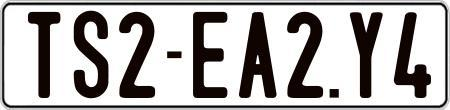2: (117, 11, 158, 101), (286, 12, 324, 104)
4: (393, 12, 432, 103)
A: (238, 10, 280, 102)
E: (193, 10, 233, 100)
S: (73, 10, 110, 100)
T: (25, 11, 60, 102)
Y: (350, 12, 388, 104)
